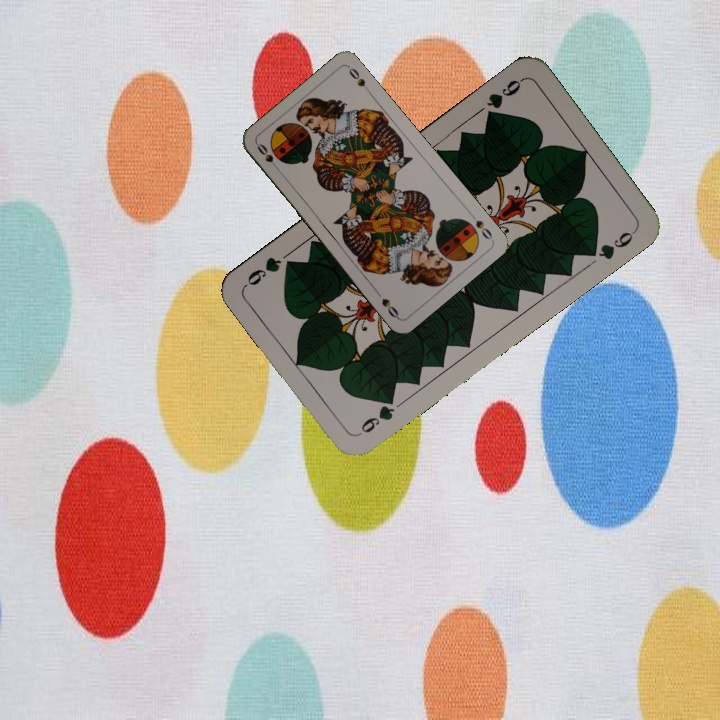G9: (481, 74, 526, 123), (354, 391, 397, 439)
SO: (465, 208, 495, 242), (253, 139, 282, 174)
